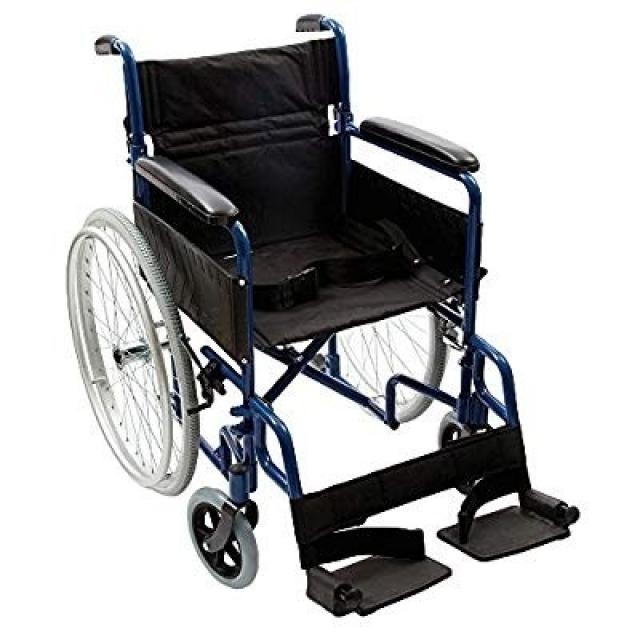wheelchair: (56, 7, 590, 618)
